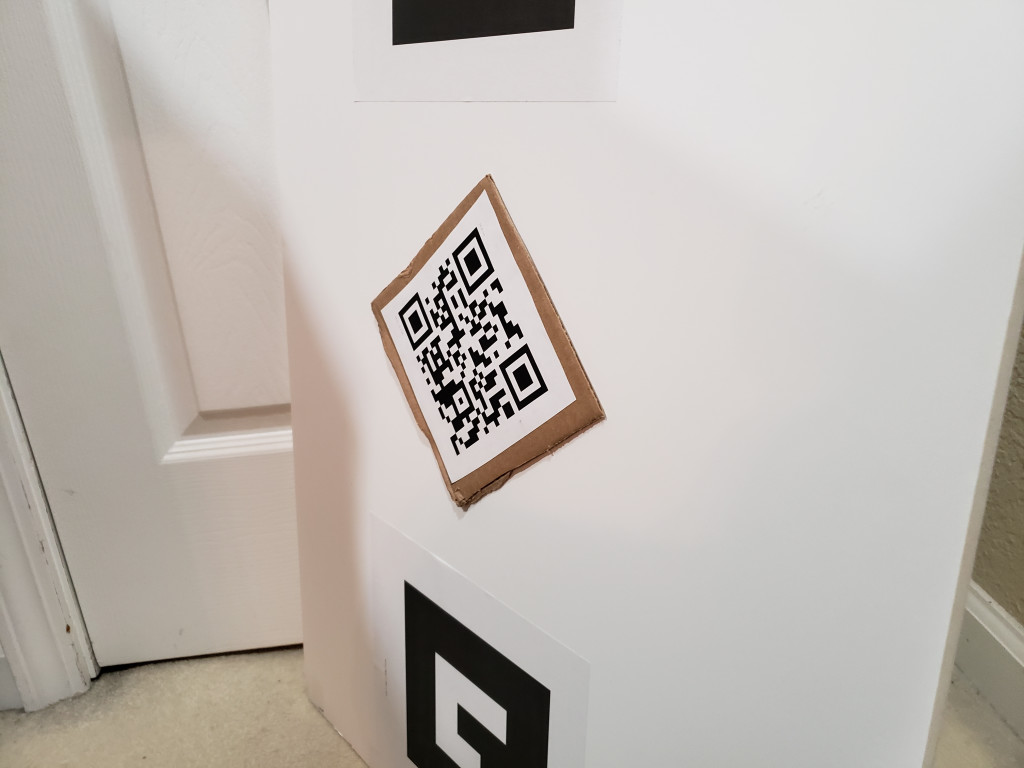QR_CODE: (388, 214, 565, 468)
